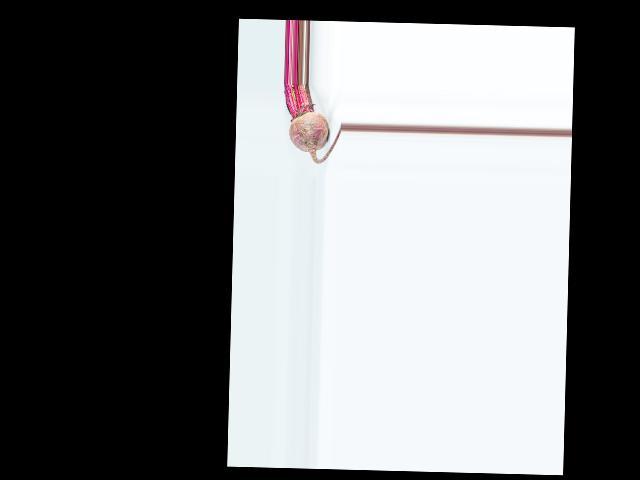beet: (281, 82, 342, 163)
